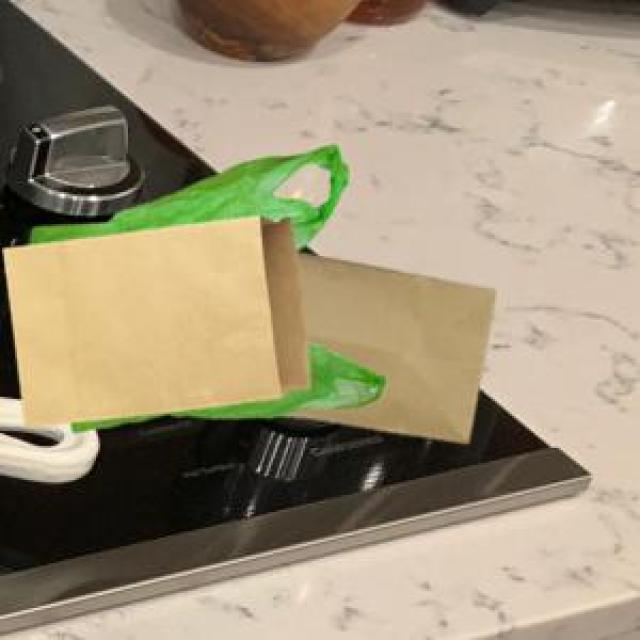paper: (0, 211, 305, 422), (277, 250, 491, 440)
